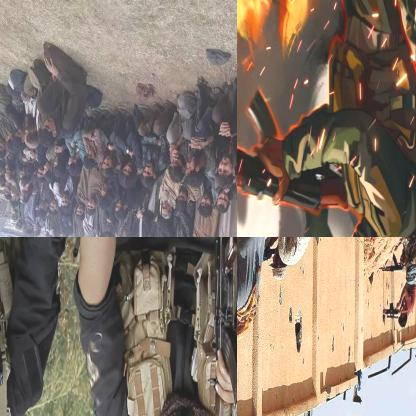rifle: (237, 89, 352, 220), (185, 237, 236, 415), (378, 299, 410, 327), (375, 254, 406, 276)
